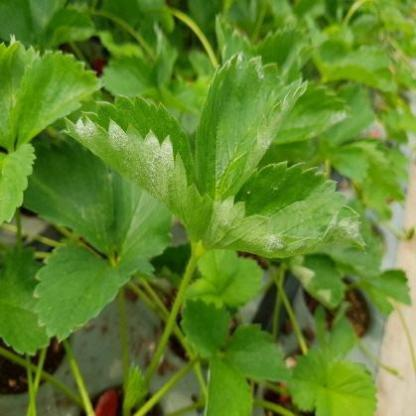Strawberry_Powdery_Mildew_Leaf: (59, 93, 214, 245), (194, 54, 310, 205), (202, 160, 368, 258), (273, 81, 352, 144)
